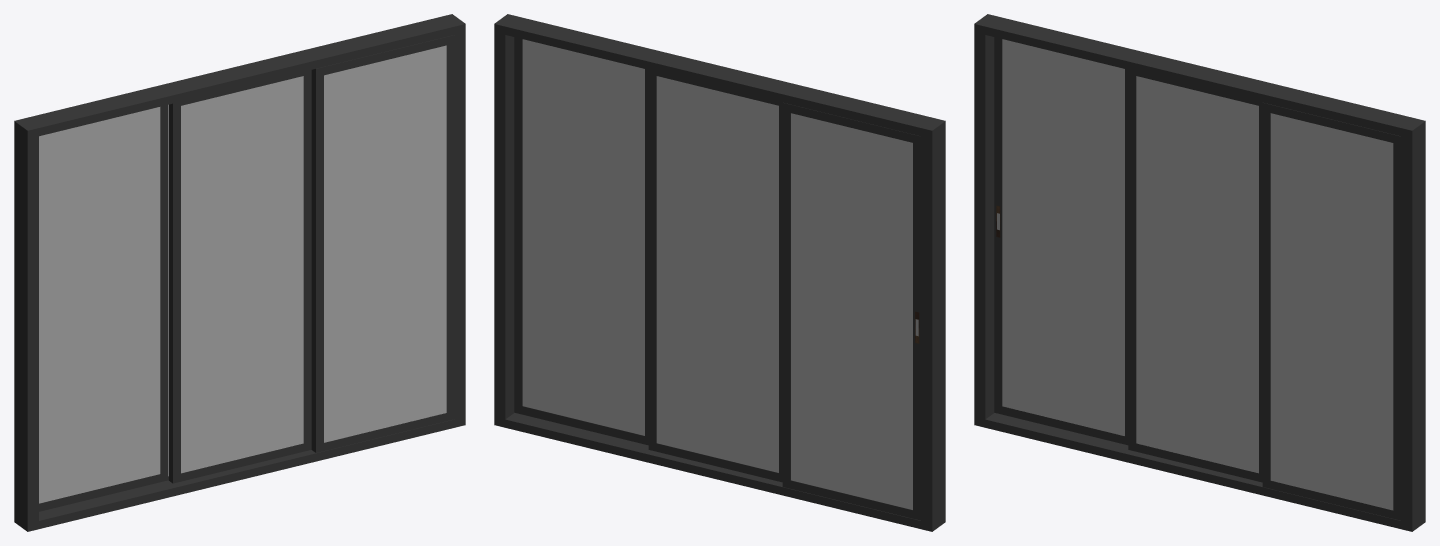
The model's file is SLIDING DOOR (240X210CM).glb.
The picture shows the model from 3 angles, left to right: view 1: azimuth 30°, elevation 25°; view 2: azimuth 150°, elevation 25°; view 3: azimuth 330°, elevation 25°; orthographic projection.
Parts seen in each view (by area): view 1: SLIDING DOOR-OP.2 (2.4M), cage_Cube.001; view 2: SLIDING DOOR-OP.2 (2.4M), cage_Cube.001; view 3: SLIDING DOOR-OP.2 (2.4M), cage_Cube.001.
Part boxes in pixels (box(x1,y1,x2,y2)): SLIDING DOOR-OP.2 (2.4M): box(39, 35, 454, 511); cage_Cube.001: box(14, 14, 465, 531); SLIDING DOOR-OP.2 (2.4M): box(514, 37, 920, 520); cage_Cube.001: box(494, 14, 945, 531); SLIDING DOOR-OP.2 (2.4M): box(994, 37, 1400, 520); cage_Cube.001: box(974, 14, 1425, 531).
Bounding box in the file's own units: 2.4 × 2.1 × 0.1282.
Materials: 4 (1 with a texture image).
